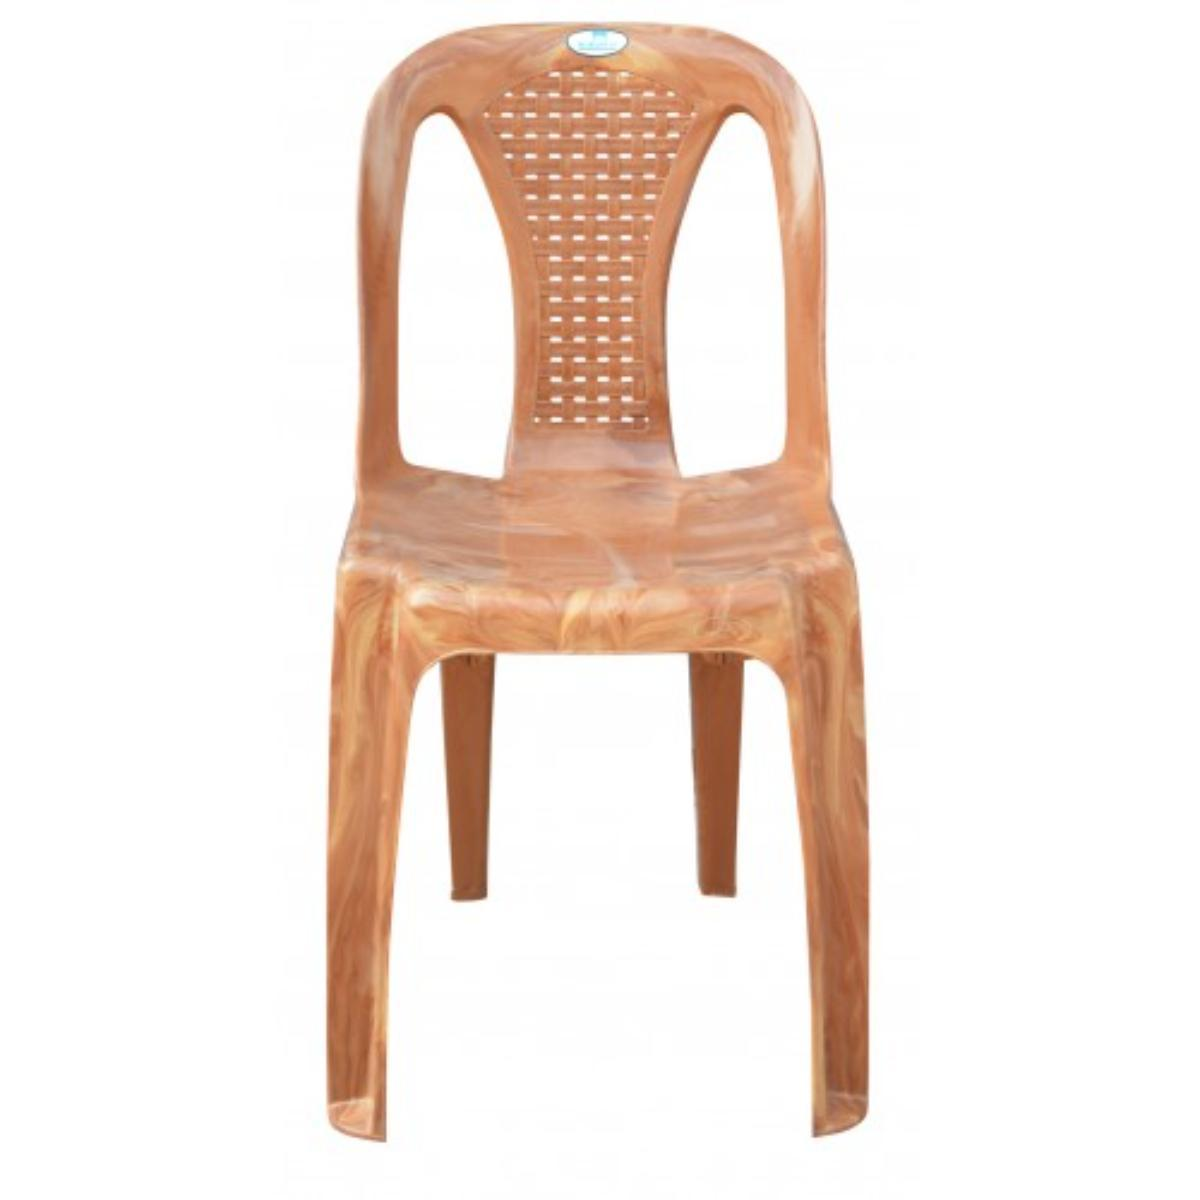Chair: (320, 17, 872, 1143)
